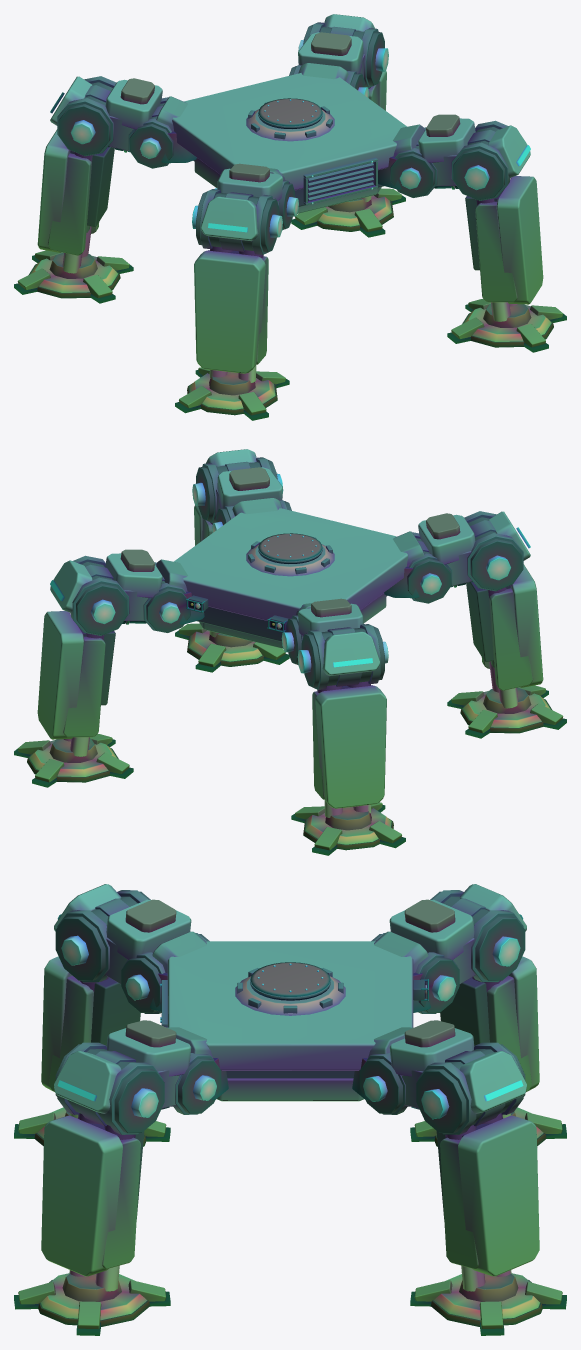
The model's file is legs_quad_mammoth.glb.
The picture shows the model from 3 angles, top to bottom: view 1: azimuth 30°, elevation 25°; view 2: azimuth 150°, elevation 25°; view 3: azimuth 270°, elevation 25°; orthographic projection. The views are drawn at different scales.
Visible parts, largest first — view 1: Body__armor, Leg_2_Knee__armor, Leg_3_Knee__armor, Leg_2_Femur__armor, Leg_0_Knee__armor_sub, Leg_3_Knee__armor_sub, Body__gunmetal, Leg_3_Femur__armor, Body__dark, Leg_0_Knee__armor, Body__armor_sub, Leg_0_Femur__armor (+36 smaller); view 2: Body__armor, Leg_0_Knee__armor, Leg_1_Knee__armor, Body__dark, Leg_0_Femur__armor, Leg_2_Knee__armor_sub, Leg_1_Knee__armor_sub, Leg_1_Femur__armor, Leg_2_Knee__armor, Body__armor_sub, Leg_2_Femur__armor, Leg_3_Femur__armor (+36 smaller); view 3: Body__armor, Leg_1_Knee__armor, Leg_3_Knee__armor, Body__armor_sub, Leg_1_Femur__armor, Leg_3_Femur__armor, Body__dark, Leg_0_Femur__armor, Leg_2_Femur__armor, Leg_1_Knee__armor_sub, Leg_3_Knee__armor_sub, Leg_3_Femur__dark (+38 smaller).
Boxes of the visible parts, box(x1,y1,x2,y2) form: Body__armor: box(172, 73, 406, 190); Leg_2_Knee__armor: box(194, 250, 265, 373); Leg_3_Knee__armor: box(496, 176, 543, 304); Leg_2_Femur__armor: box(200, 168, 282, 241); Leg_0_Knee__armor_sub: box(48, 153, 99, 255); Leg_3_Knee__armor_sub: box(475, 201, 517, 302); Body__gunmetal: box(248, 101, 377, 205); Leg_3_Femur__armor: box(418, 118, 530, 177); Body__dark: box(193, 98, 384, 206); Leg_0_Knee__armor: box(37, 129, 70, 252); Body__armor_sub: box(194, 109, 381, 213); Leg_0_Femur__armor: box(50, 76, 162, 129); Body__armor: box(174, 508, 408, 621); Leg_0_Knee__armor: box(315, 685, 386, 808); Leg_1_Knee__armor: box(37, 611, 84, 739); Body__dark: box(188, 533, 387, 641); Leg_0_Femur__armor: box(298, 603, 380, 676); Leg_2_Knee__armor_sub: box(481, 588, 532, 690); Leg_1_Knee__armor_sub: box(63, 636, 105, 737); Leg_1_Femur__armor: box(50, 553, 162, 612); Leg_2_Knee__armor: box(510, 564, 543, 687); Body__armor_sub: box(199, 544, 386, 648); Leg_2_Femur__armor: box(418, 511, 530, 564); Leg_3_Femur__armor: box(206, 449, 282, 508); Body__armor: box(167, 941, 413, 1070); Leg_1_Knee__armor: box(458, 1115, 539, 1276); Leg_3_Knee__armor: box(41, 1115, 122, 1276); Body__armor_sub: box(217, 976, 363, 1101); Leg_1_Femur__armor: box(389, 1028, 526, 1113); Leg_3_Femur__armor: box(54, 1028, 191, 1113); Body__dark: box(226, 962, 425, 1078); Leg_0_Femur__armor: box(389, 884, 526, 959); Leg_2_Femur__armor: box(54, 884, 191, 959); Leg_1_Knee__armor_sub: box(440, 1118, 503, 1269); Leg_3_Knee__armor_sub: box(77, 1118, 140, 1269); Leg_3_Femur__dark: box(55, 1044, 169, 1133).
Size of the model in its own units: 3.96 by 1.98 by 3.96.
